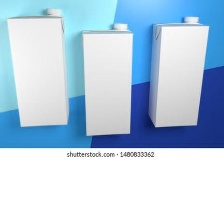carton: (5, 5, 71, 134), (144, 14, 211, 132), (78, 19, 135, 140)
